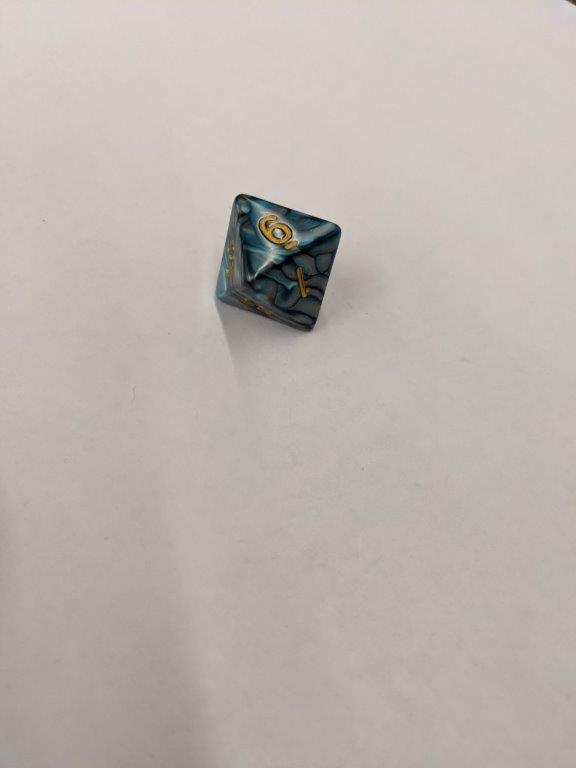d8-6: (218, 192, 341, 336)
